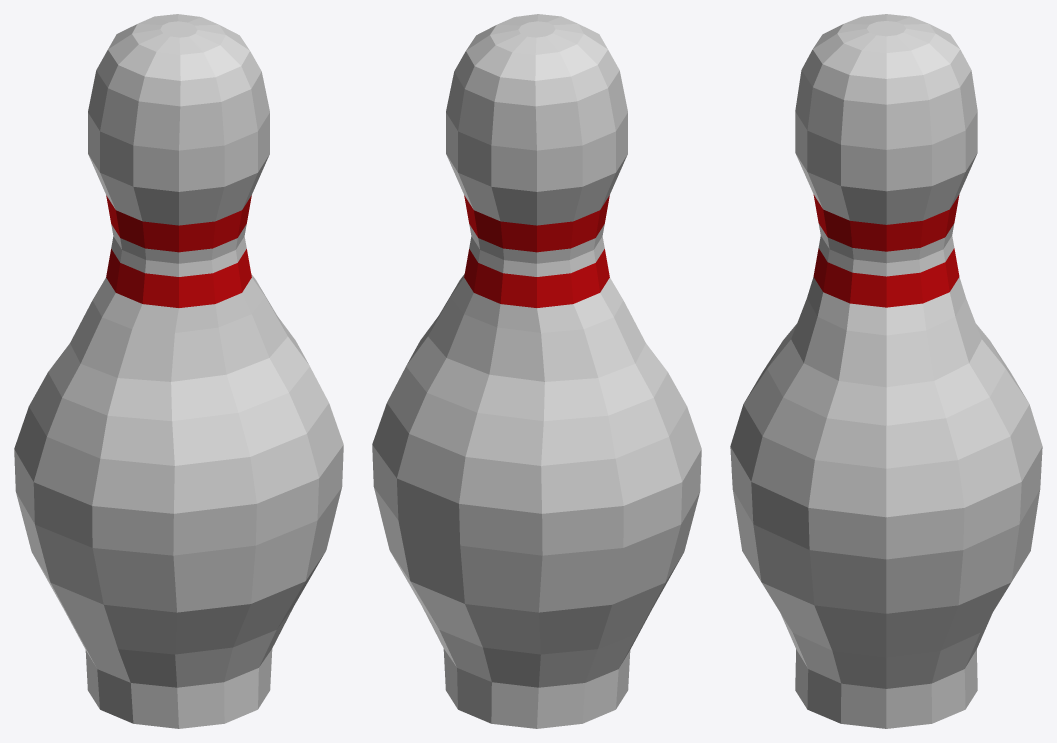
Rendered from Bowling Pin.fbx.
3 views of the same model, side by side, from view 1: azimuth 30°, elevation 25°; view 2: azimuth 150°, elevation 25°; view 3: azimuth 270°, elevation 25° (orthographic).
Visible parts, largest first — view 1: Bowling Pin; view 2: Bowling Pin; view 3: Bowling Pin.
Boxes of the visible parts, x1=… form: Bowling Pin: x1=14, y1=14, x2=343, y2=728; Bowling Pin: x1=372, y1=14, x2=701, y2=728; Bowling Pin: x1=730, y1=14, x2=1042, y2=728.
Bounding box in the file's own units: 184 × 400 × 171.
